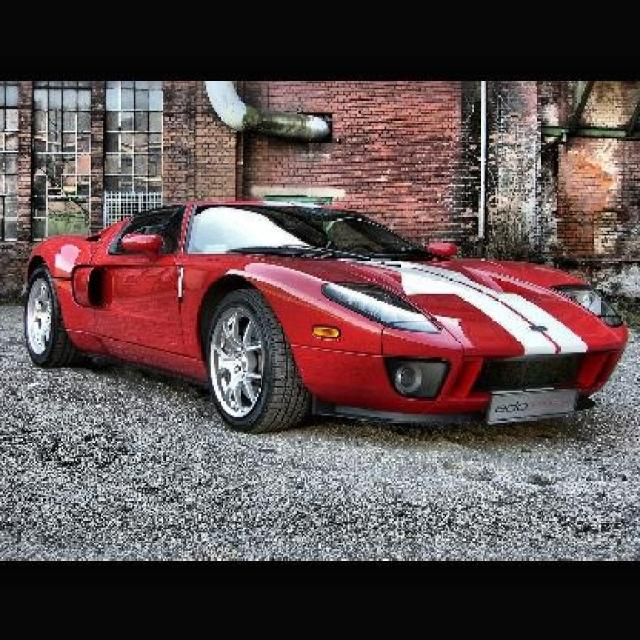maroon: (26, 192, 628, 414)
